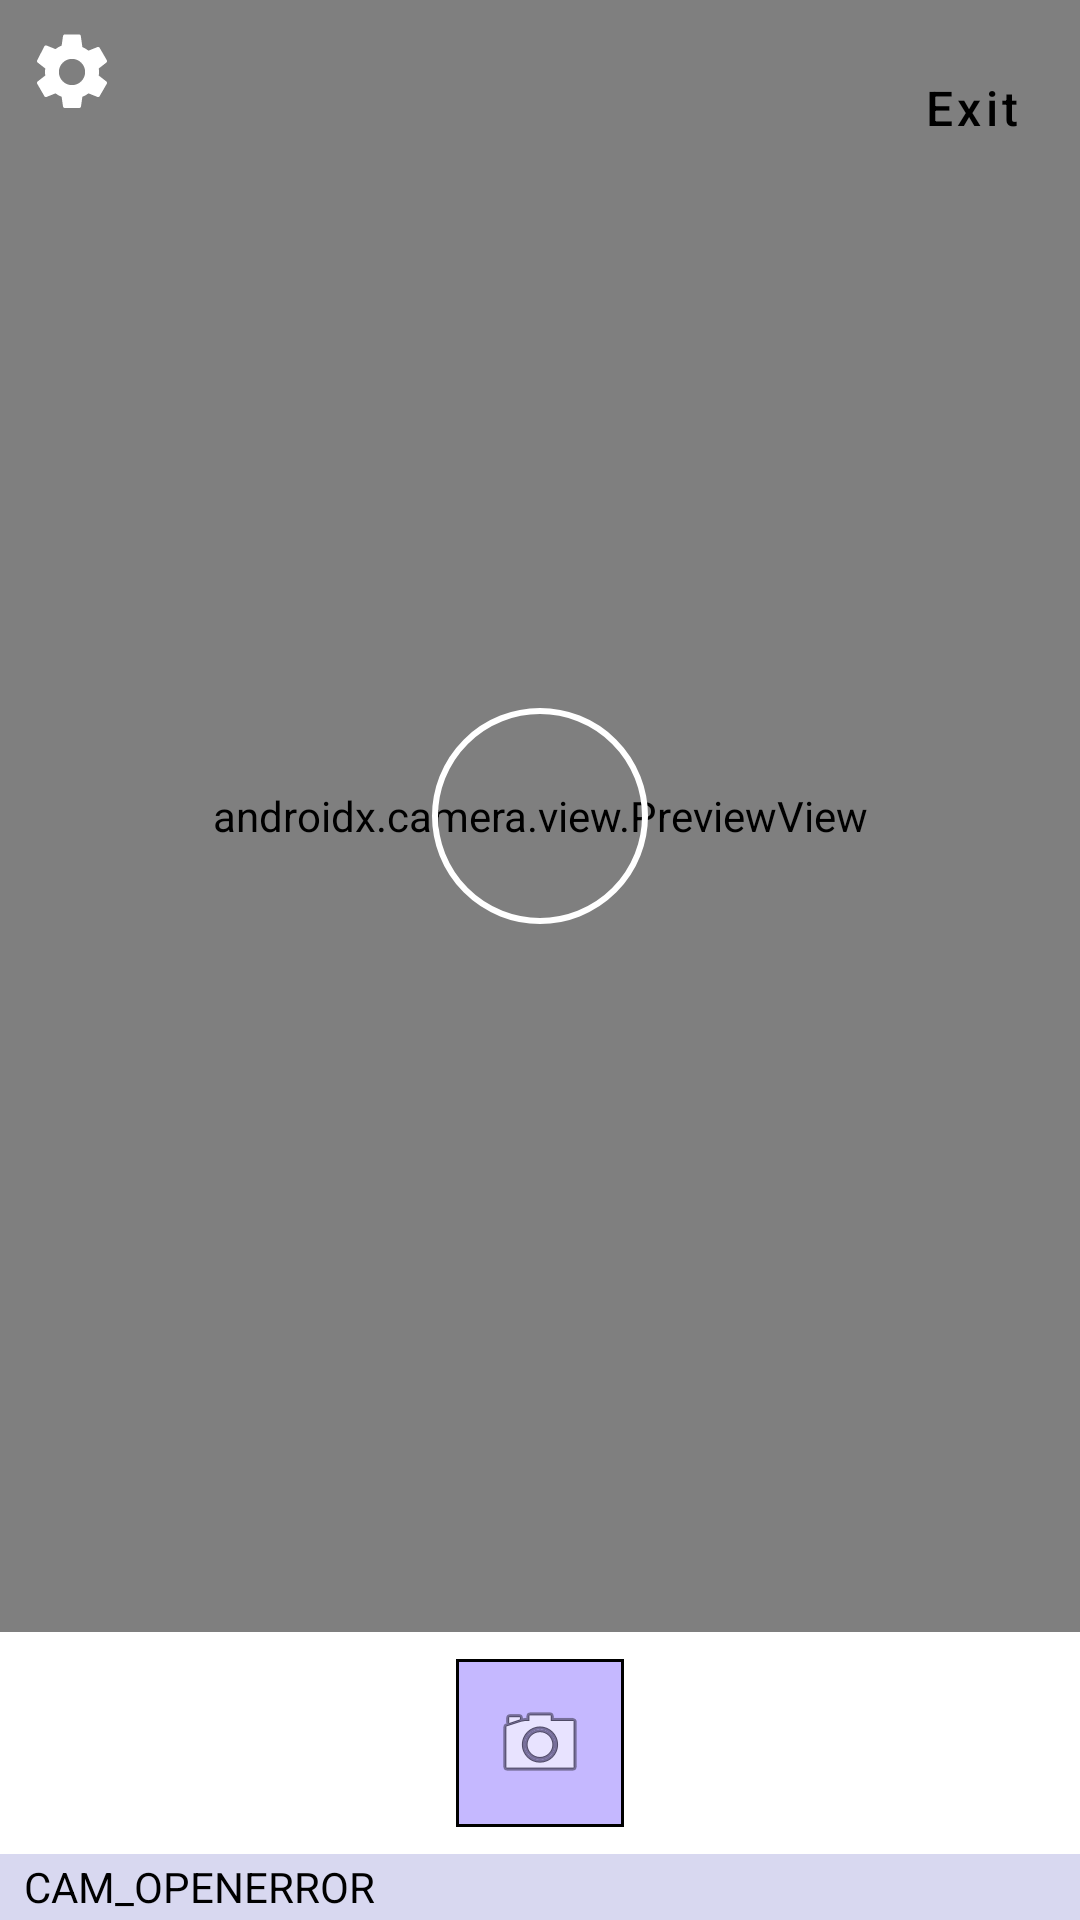

Locate icon controls on the screen. Image size 1080px×1920px, boxes as (x1, y1, x2, y2).
settings: (37, 34, 107, 108)
shutter: (456, 1659, 624, 1827)
